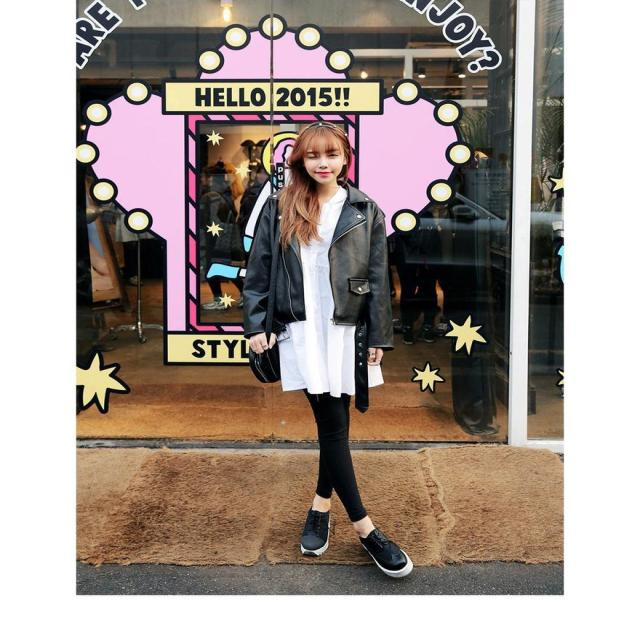long sleeve dress: (244, 184, 393, 398)
